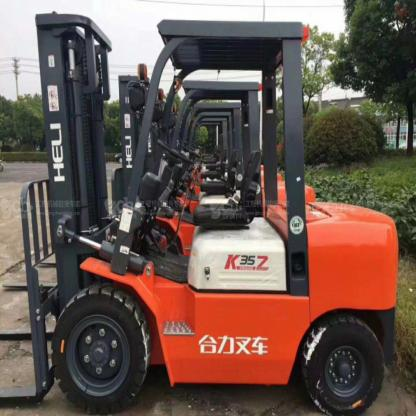forklift: (19, 9, 398, 415)
